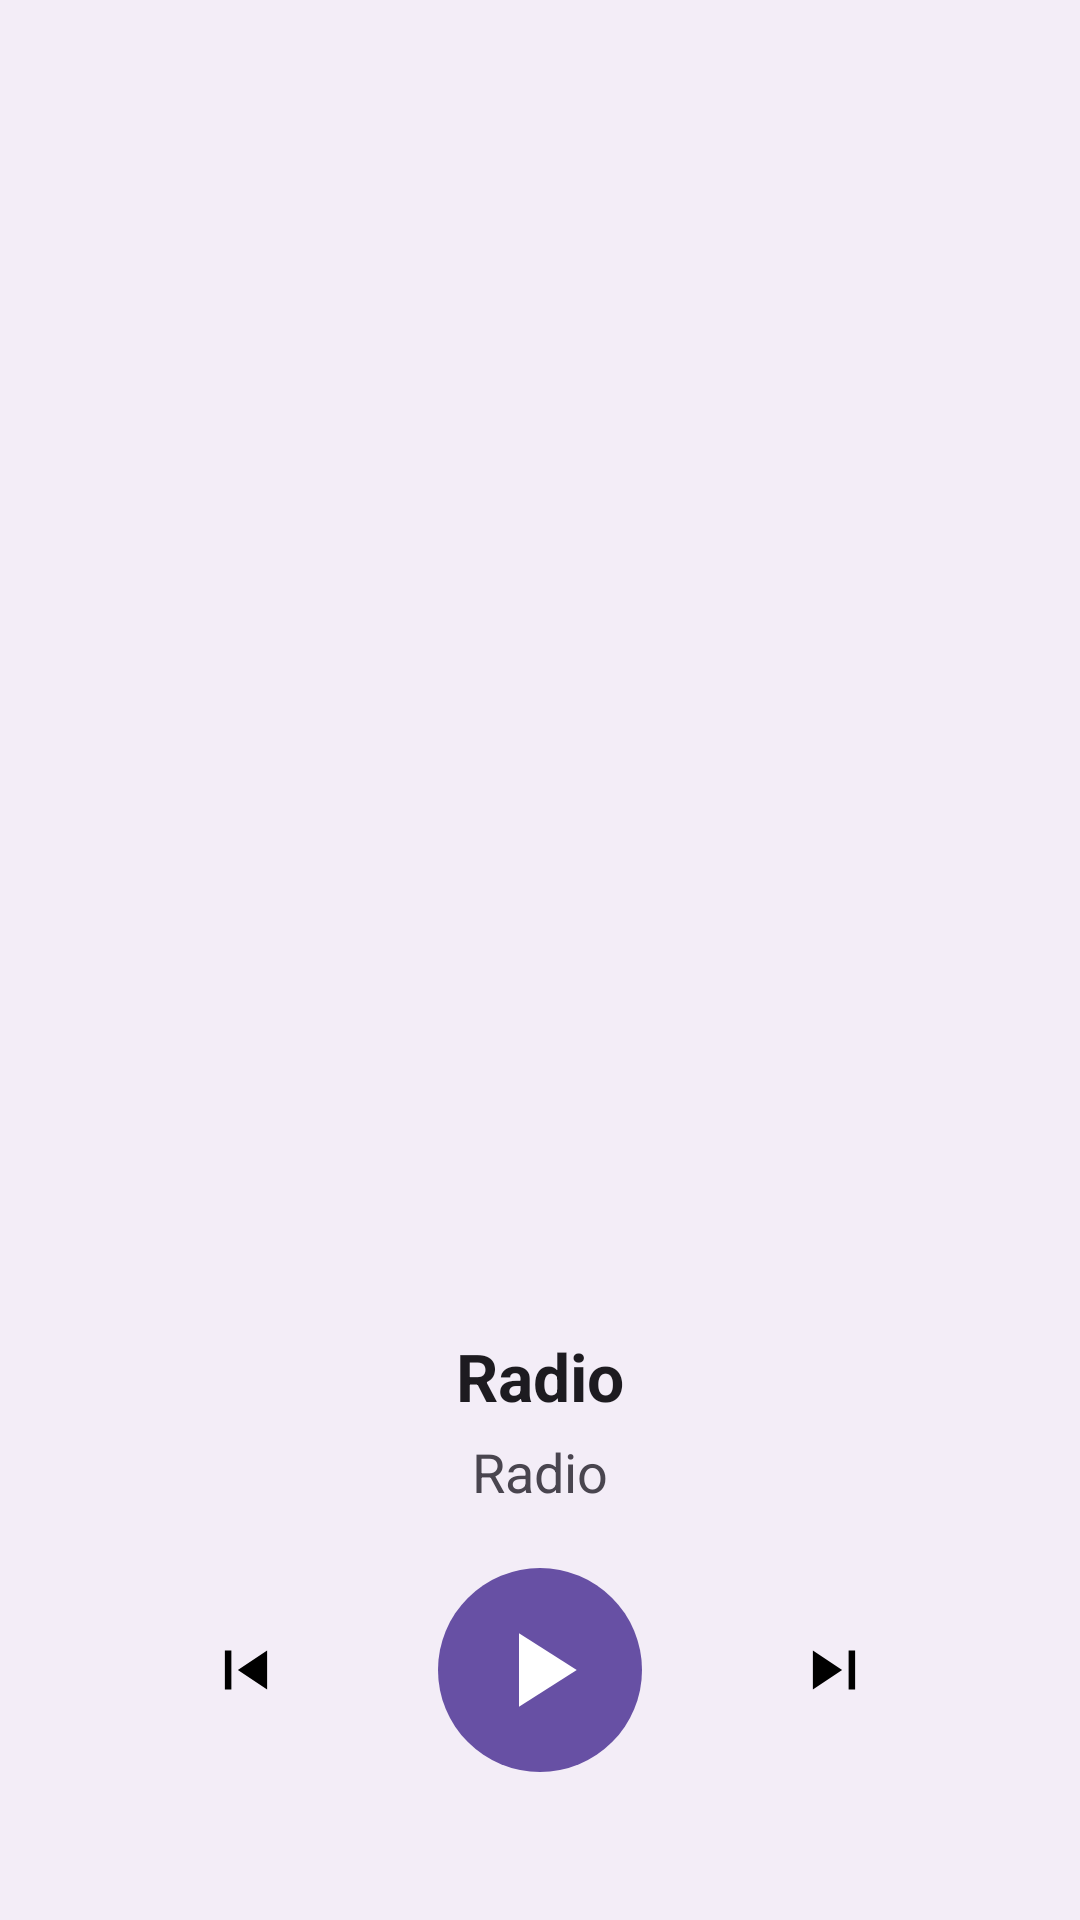

Locate icon controls on the screen. Image size 1080px×1920px, boxes as (left=x1, top=y1, right=x2, bottom=y2).
play arrow: (left=438, top=1568, right=642, bottom=1772)
skip next: (left=812, top=1650, right=856, bottom=1690)
skip previous: (left=224, top=1650, right=268, bottom=1690)
